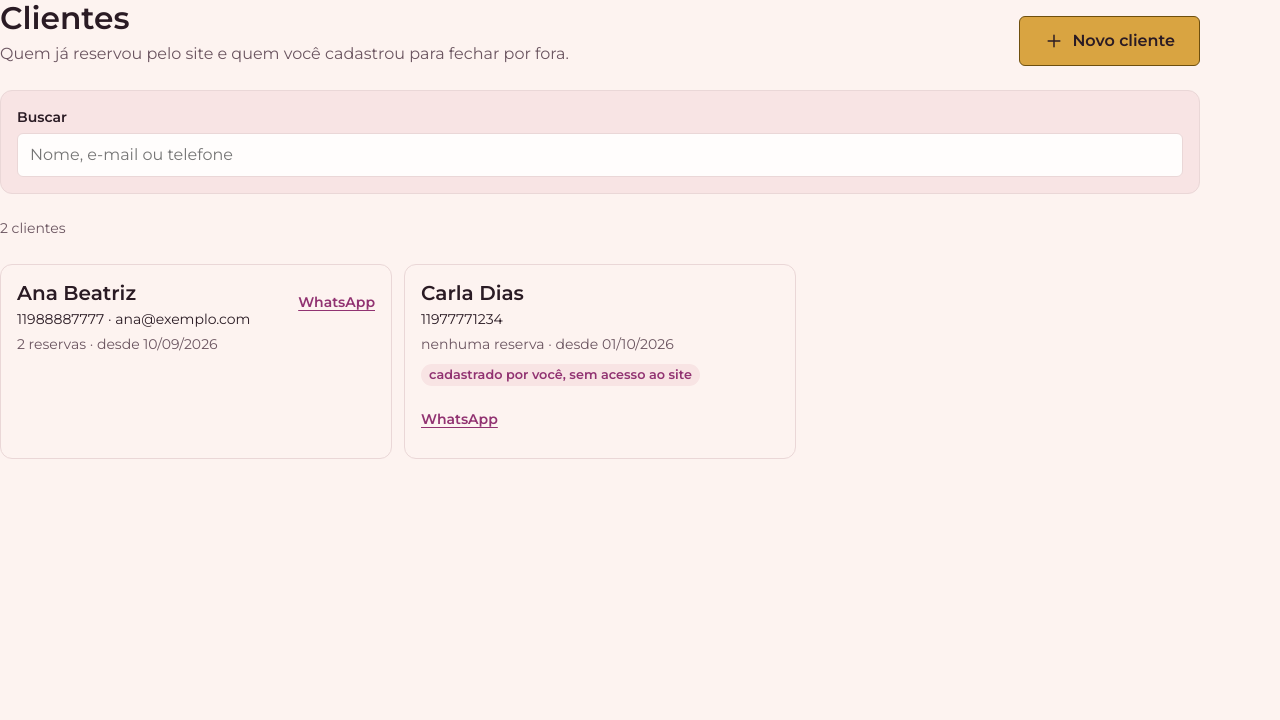
Test: CustomersPage › cadastro sem senha › conta quando o e-mail já existe
Click the button "Novo cliente": [1110, 41] box x1=1019 y1=16 x2=1200 y2=66
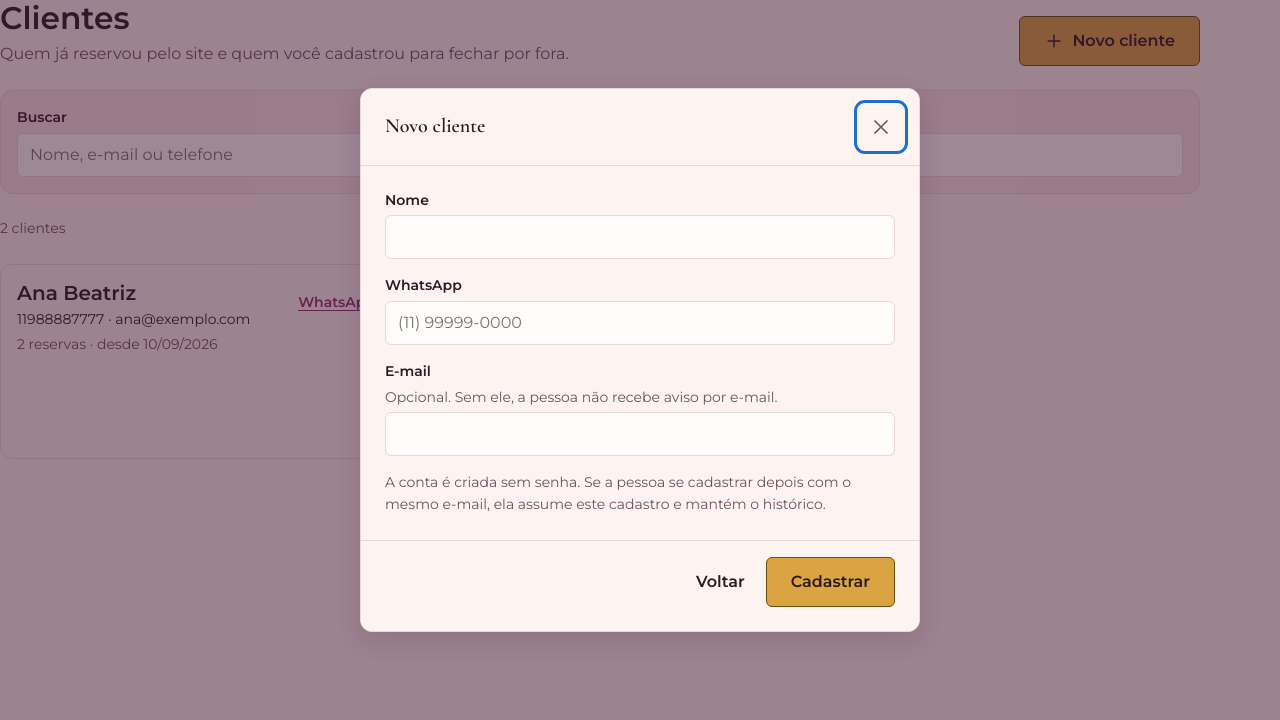
In the field labelled "Nome": [640, 237] box x1=385 y1=215 x2=895 y2=259, type "Carla Dias"
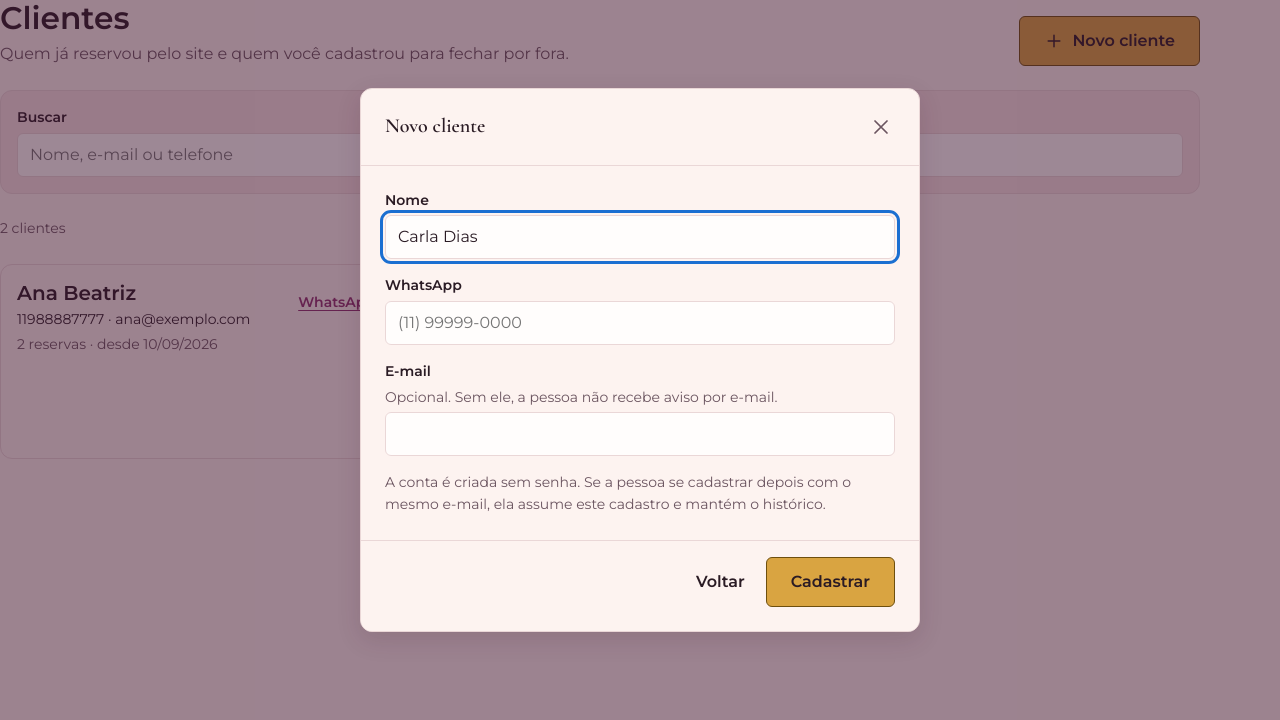
In the field labelled "WhatsApp": [640, 323] box x1=385 y1=301 x2=895 y2=345, type "11977771234"
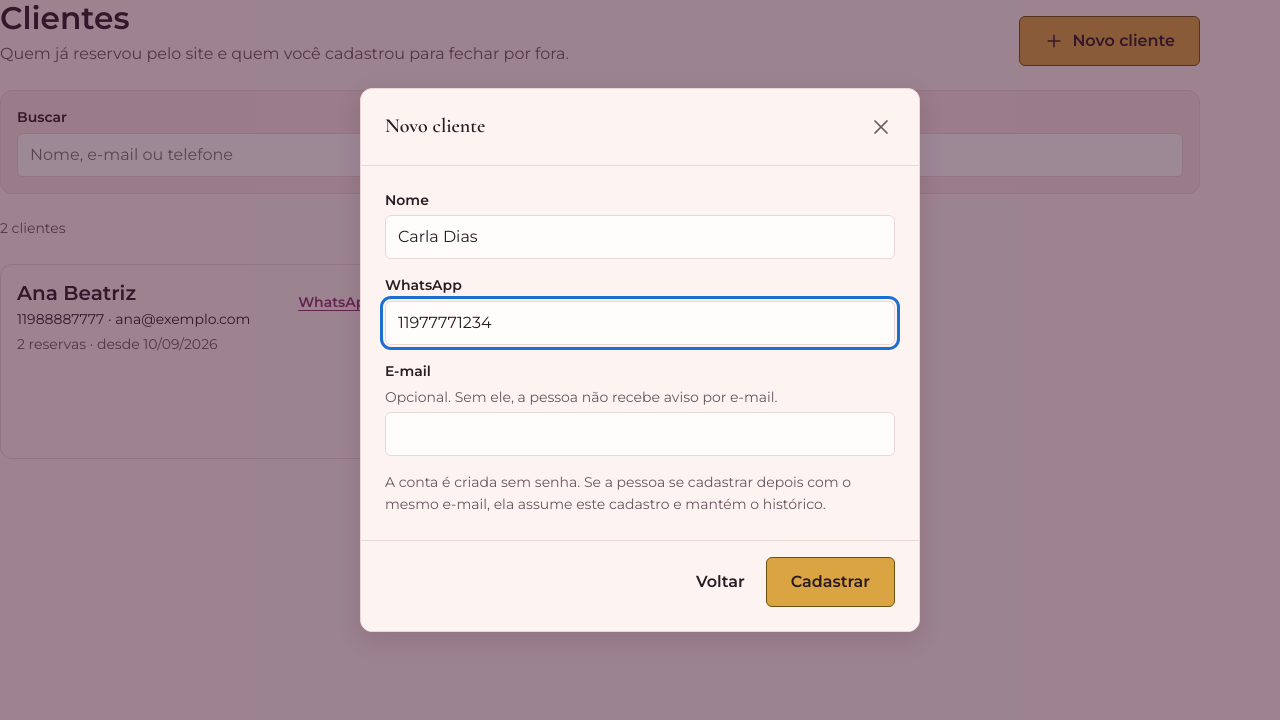
In the field labelled "E-mail": [640, 434] box x1=385 y1=412 x2=895 y2=456, type "ana@exemplo.com"
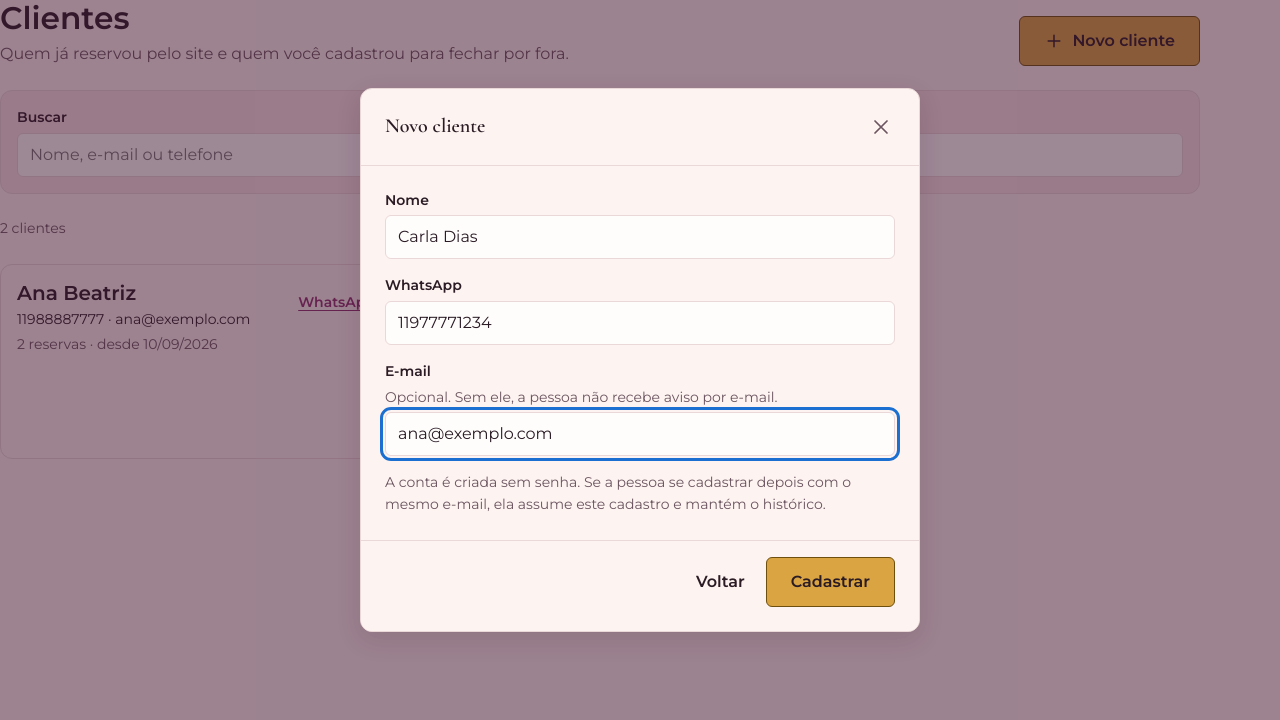
Click the button "Cadastrar": [830, 582] box x1=766 y1=557 x2=895 y2=608
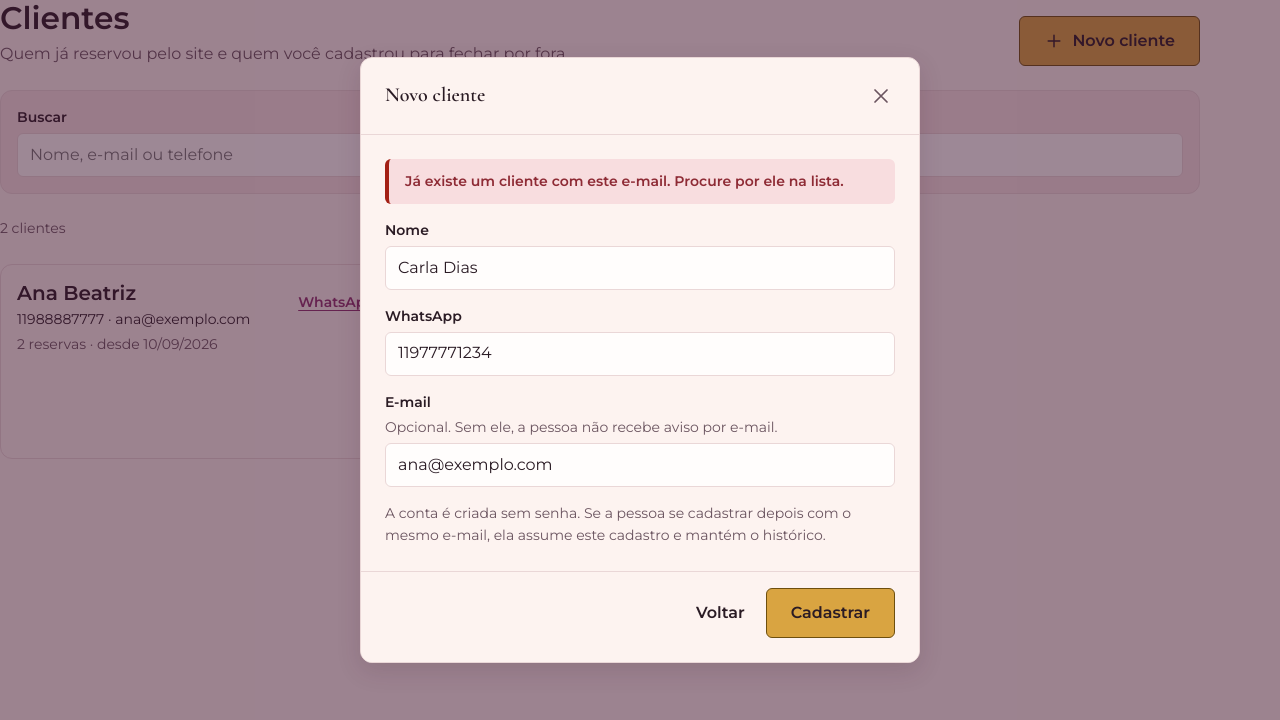
Result: the message "Já existe um cliente com este e-mail. Procure por ele na lista." is shown at x1=385 y1=159 x2=895 y2=204
